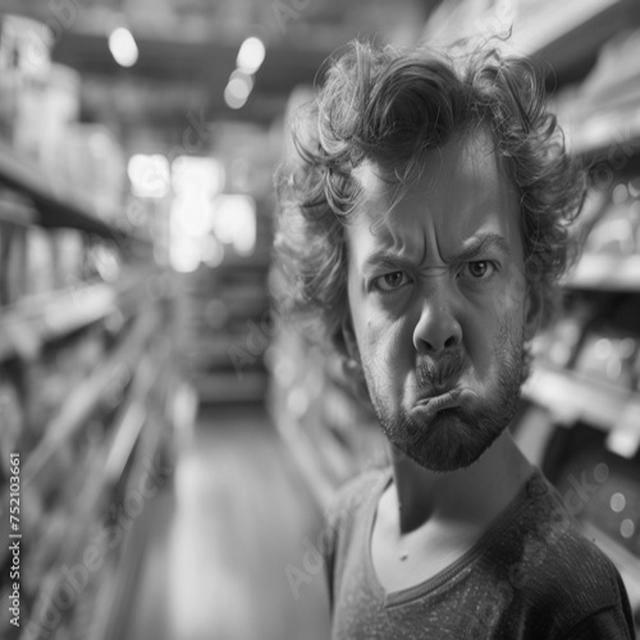Disgust: (344, 124, 532, 474)
